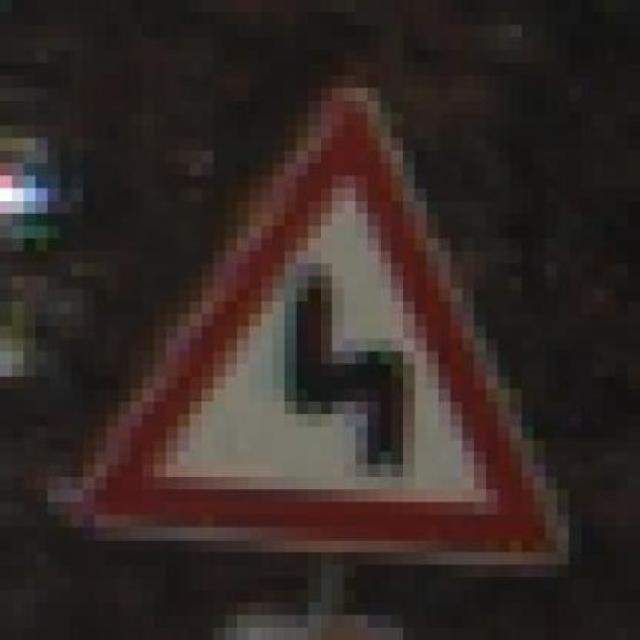Left Zig Zag Traffic: (70, 62, 604, 590)
